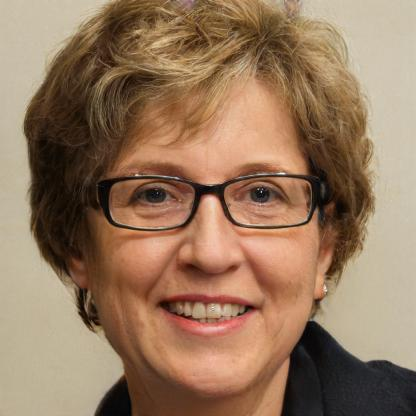glasses: (84, 171, 328, 234)
